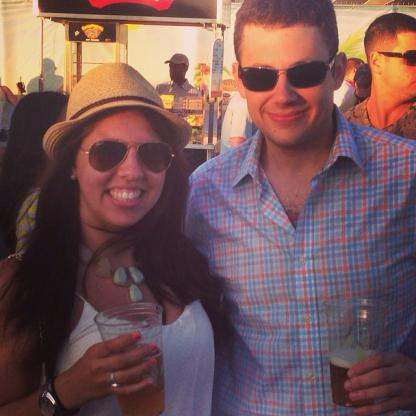drinking: (92, 302, 166, 415), (322, 296, 390, 409)
